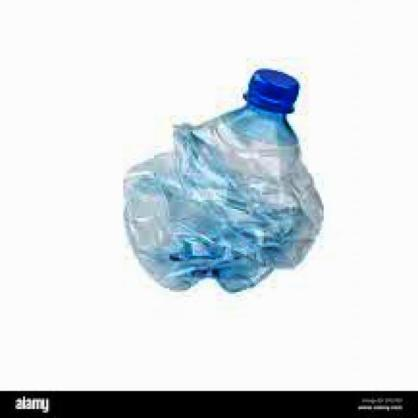bottle: (113, 55, 332, 296)
cap: (242, 60, 302, 115)
